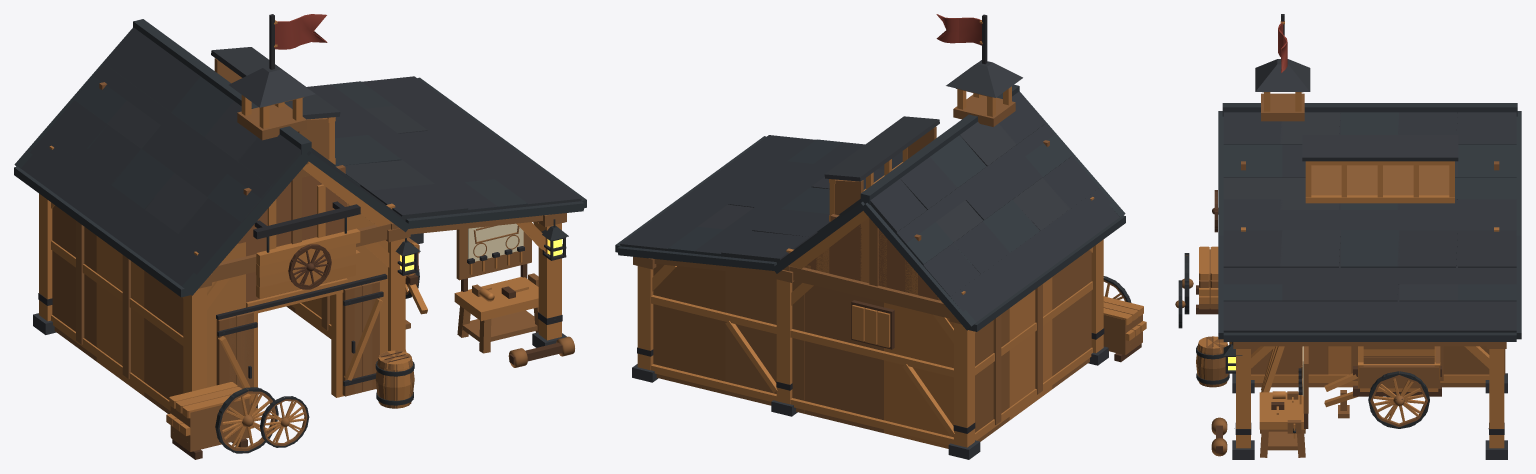
File: building_cart_workshop_a.glb
3 views of the same model, side by side, from view 1: azimuth 30°, elevation 25°; view 2: azimuth 150°, elevation 25°; view 3: azimuth 270°, elevation 25° (orthographic). The views are drawn at different scales.
Visible parts, largest first — view 1: building_cart_workshop_a_surface_0, building_cart_workshop_a_surface_2, building_cart_workshop_a_surface_1; view 2: building_cart_workshop_a_surface_2, building_cart_workshop_a_surface_0, building_cart_workshop_a_surface_1; view 3: building_cart_workshop_a_surface_0, building_cart_workshop_a_surface_2, building_cart_workshop_a_surface_1.
Part boxes in pixels (<box>): building_cart_workshop_a_surface_0: <box>14,14,585,458</box>; building_cart_workshop_a_surface_2: <box>14,14,586,459</box>; building_cart_workshop_a_surface_1: <box>14,14,586,459</box>; building_cart_workshop_a_surface_2: <box>617,14,1142,449</box>; building_cart_workshop_a_surface_0: <box>615,14,1145,458</box>; building_cart_workshop_a_surface_1: <box>615,14,1146,459</box>; building_cart_workshop_a_surface_0: <box>1175,15,1521,459</box>; building_cart_workshop_a_surface_2: <box>1196,23,1521,453</box>; building_cart_workshop_a_surface_1: <box>1175,14,1521,459</box>.
Bounding box in the file's own units: 12.28 × 10.68 × 10.12.
